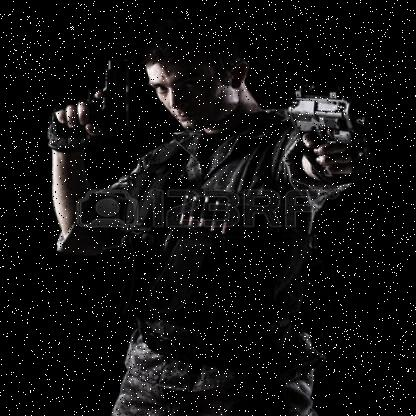pistol: (40, 40, 148, 140), (283, 84, 382, 164)
